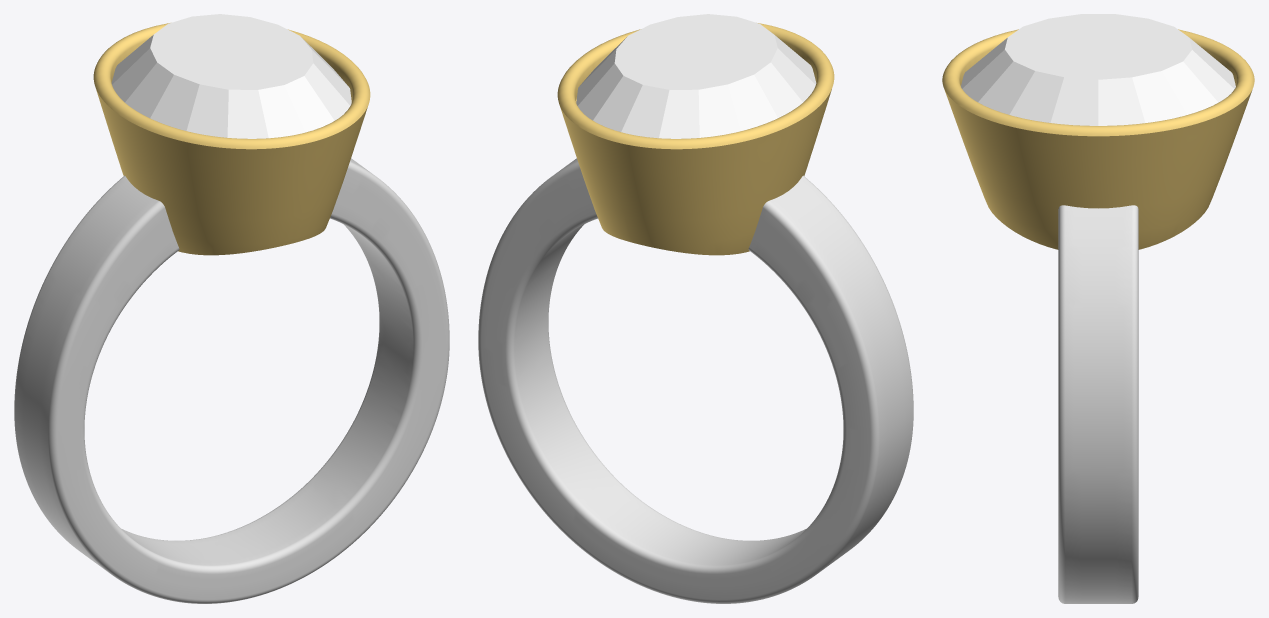
The model's file is Rana PT Sapphire_webgi.glb.
3 views of the same model, side by side, from view 1: azimuth 30°, elevation 25°; view 2: azimuth 150°, elevation 25°; view 3: azimuth 270°, elevation 25° (orthographic).
Visible parts, largest first — view 1: rana_PT_for_3d_model, rana_YG_for_3d_model, rana_sapphire_for_3d_model; view 2: rana_PT_for_3d_model, rana_YG_for_3d_model, rana_sapphire_for_3d_model; view 3: rana_PT_for_3d_model, rana_YG_for_3d_model, rana_sapphire_for_3d_model.
Part boxes in pixels (x1,y1,x2,y2): rana_PT_for_3d_model: [14, 158, 449, 603]; rana_YG_for_3d_model: [93, 23, 370, 255]; rana_sapphire_for_3d_model: [111, 14, 351, 138]; rana_PT_for_3d_model: [478, 158, 913, 603]; rana_YG_for_3d_model: [557, 23, 834, 255]; rana_sapphire_for_3d_model: [576, 14, 816, 138]; rana_PT_for_3d_model: [1058, 205, 1138, 603]; rana_YG_for_3d_model: [942, 29, 1254, 249]; rana_sapphire_for_3d_model: [961, 14, 1235, 125].
Size of the model in its own units: 2.28 by 2.9 by 1.53.
